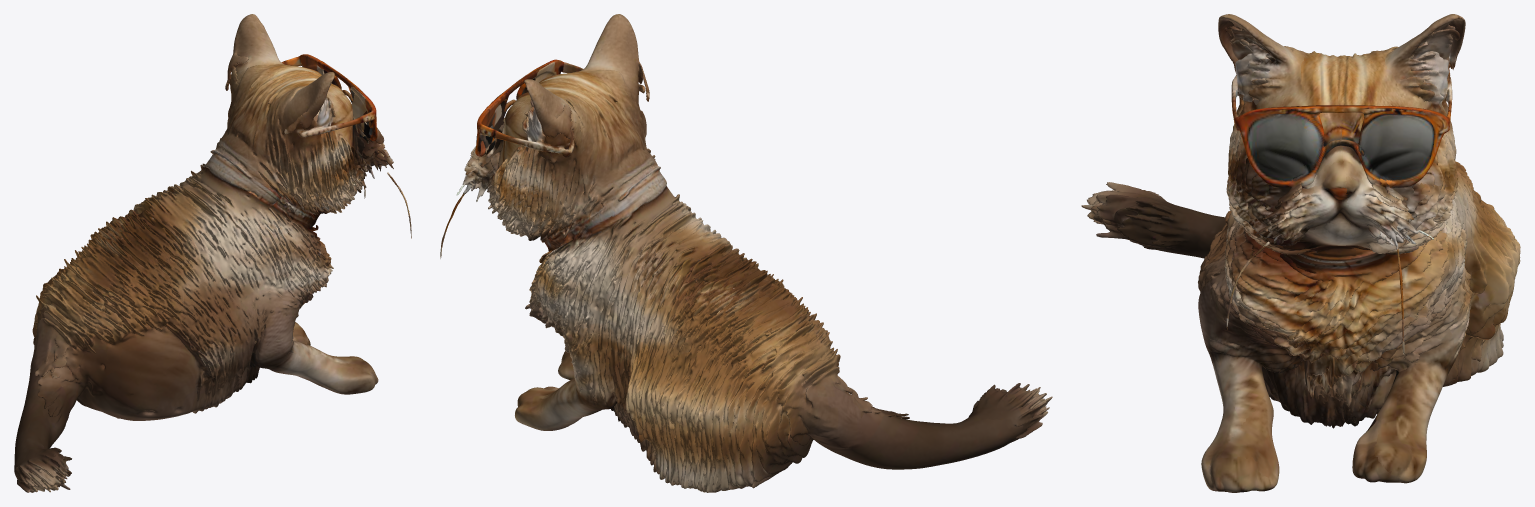
File: Lentes.fbx
3 renders of one model, left to right at view 1: azimuth 30°, elevation 25°; view 2: azimuth 150°, elevation 25°; view 3: azimuth 270°, elevation 25°, orthographic. The views are drawn at different scales.
Parts seen in each view (by area): view 1: tripo_node_6d408c77; view 2: tripo_node_6d408c77; view 3: tripo_node_6d408c77.
Boxes of the visible parts, x1,y1,x2,y2 form: tripo_node_6d408c77: (14, 14, 411, 492); tripo_node_6d408c77: (440, 14, 1052, 492); tripo_node_6d408c77: (1081, 14, 1520, 492).
Bounding box in the file's own units: 100 × 70.19 × 61.47.
1 material, 1 textured.
